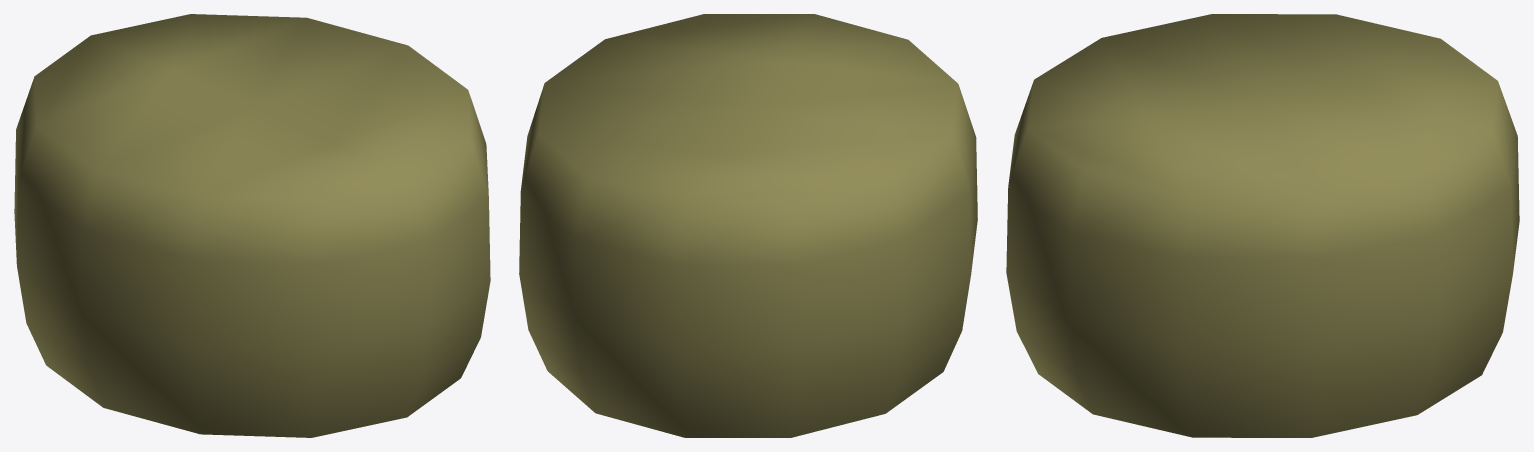
File: garrafa_menor_rolha.fbx
The picture shows the model from 3 angles, left to right: view 1: azimuth 30°, elevation 25°; view 2: azimuth 150°, elevation 25°; view 3: azimuth 270°, elevation 25°; orthographic projection. The views are drawn at different scales.
Parts seen in each view (by area): view 1: garrafa_menor_rolha; view 2: garrafa_menor_rolha; view 3: garrafa_menor_rolha.
Part boxes in pixels (bbox=[...]): garrafa_menor_rolha: bbox=[14, 14, 490, 437]; garrafa_menor_rolha: bbox=[519, 14, 977, 437]; garrafa_menor_rolha: bbox=[1006, 14, 1519, 437].
Size of the model in its own units: 1.84 by 1.07 by 2.01.
